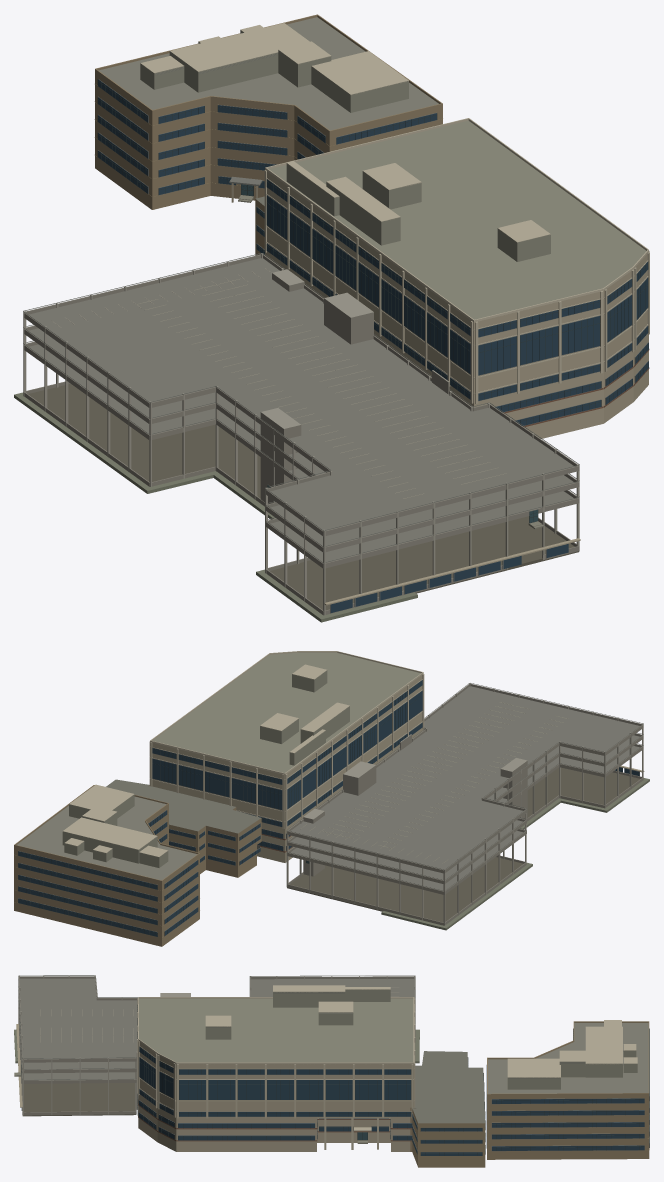
The model's file is site.glb.
The picture shows the model from 3 angles, top to bottom: view 1: azimuth 30°, elevation 25°; view 2: azimuth 150°, elevation 25°; view 3: azimuth 270°, elevation 25°; orthographic projection. The views are drawn at different scales.
Parts seen in each view (by area): view 1: university-district-650-e-12th-garage, roof-4c79682d, roof-4a7d9b5a, university-district-clinic-approaches; view 2: university-district-650-e-12th-garage, roof-4c79682d, roof-4a7d9b5a, university-district-clinic-approaches; view 3: roof-4c79682d, roof-4a7d9b5a, university-district-650-e-12th-garage, university-district-clinic-approaches.
Part boxes in pixels (left/top/right/bottom): university-district-650-e-12th-garage: left=23, top=253, right=580, bottom=615; roof-4c79682d: left=255, top=118, right=649, bottom=438; roof-4a7d9b5a: left=94, top=14, right=442, bottom=209; university-district-clinic-approaches: left=14, top=199, right=543, bottom=622; university-district-650-e-12th-garage: left=286, top=683, right=644, bottom=925; roof-4c79682d: left=106, top=651, right=424, bottom=877; roof-4a7d9b5a: left=14, top=784, right=199, bottom=946; university-district-clinic-approaches: left=381, top=778, right=649, bottom=930; roof-4c79682d: left=137, top=985, right=485, bottom=1167; roof-4a7d9b5a: left=486, top=1020, right=649, bottom=1159; university-district-650-e-12th-garage: left=16, top=975, right=415, bottom=1116; university-district-clinic-approaches: left=14, top=1029, right=419, bottom=1143.
Size of the model in its own units: 98.1 by 36.59 by 164.
